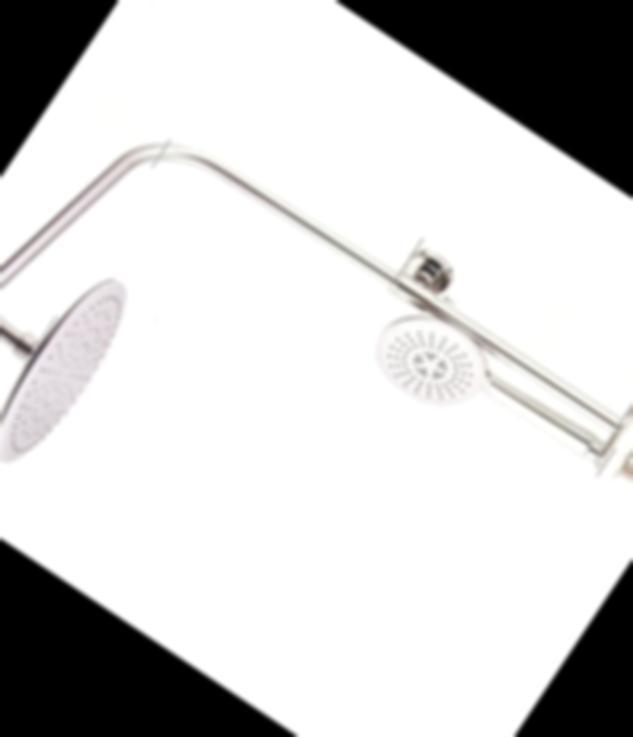Ducha: (0, 21, 633, 737)
